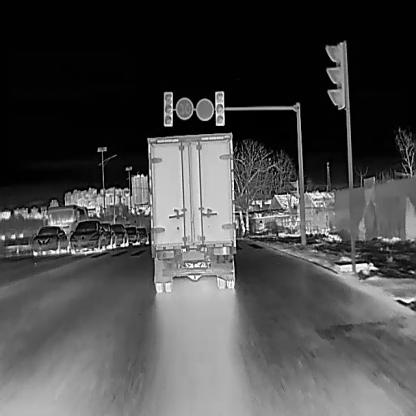bus: (42, 203, 90, 254)
car: (68, 218, 107, 254), (31, 224, 70, 254), (99, 221, 116, 249), (110, 222, 129, 247), (123, 224, 140, 245), (135, 225, 149, 245)
truck: (146, 131, 237, 292)
